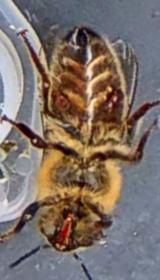varroa_mite: (104, 85, 130, 116), (49, 86, 74, 113)
